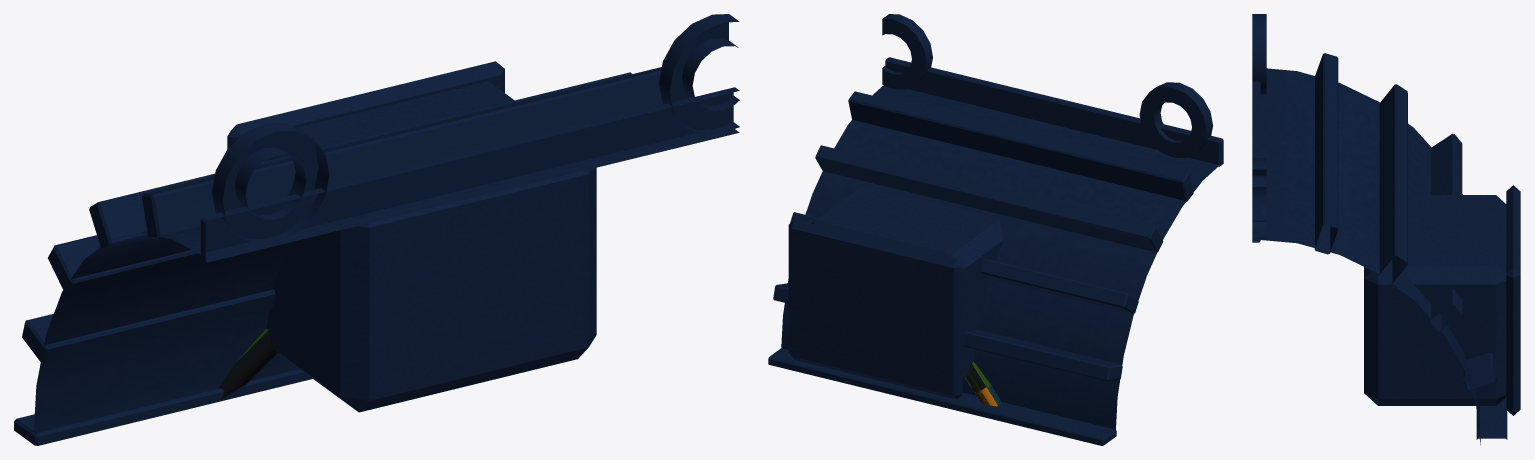
Rendered from cell_16.obj.
3 renders of one model, left to right at view 1: azimuth 30°, elevation 25°; view 2: azimuth 150°, elevation 25°; view 3: azimuth 270°, elevation 25°, orthographic. The views are drawn at different scales.
Parts seen in each view (by area): view 1: cell_16; view 2: cell_16; view 3: cell_16.
Part boxes in pixels (x1,y1,x2,y2): cell_16: (14, 14, 739, 445); cell_16: (768, 14, 1223, 445); cell_16: (1252, 14, 1520, 444).
Size of the model in its own units: 1 by 0.755 by 0.6581.
